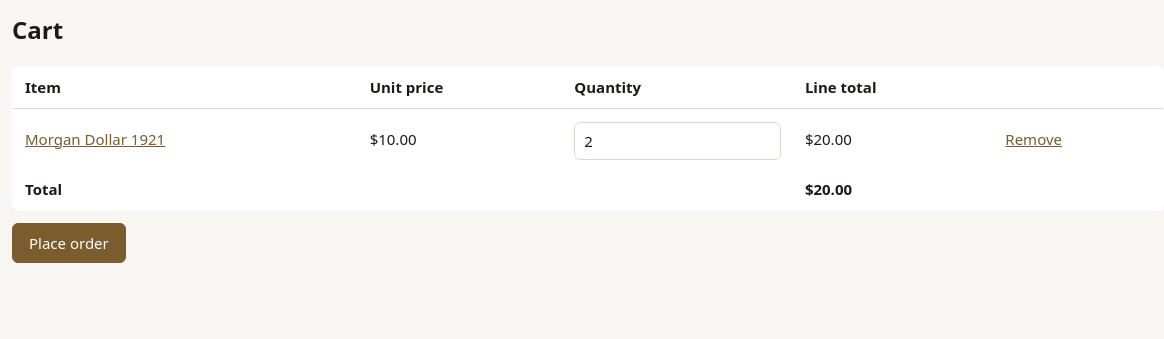
Test: Cart checkout › keeps the cart and shows why when the order is refused
The image size is (1164, 339).
Click the button "Place order".
click(69, 243)  # box [12,222,126,263]
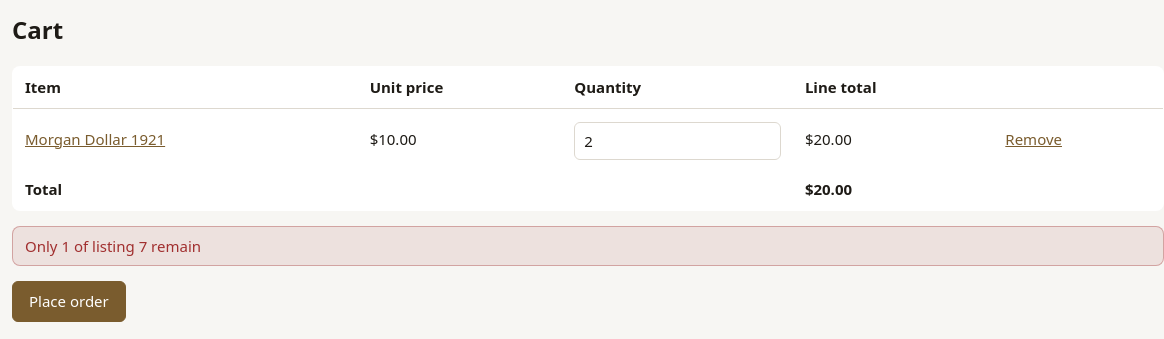
Expected: the button "Place order" is enabled, [12,281,126,322]
Result: the text "Only 1 of listing 7 remain" is shown at [12,226,1163,266]
